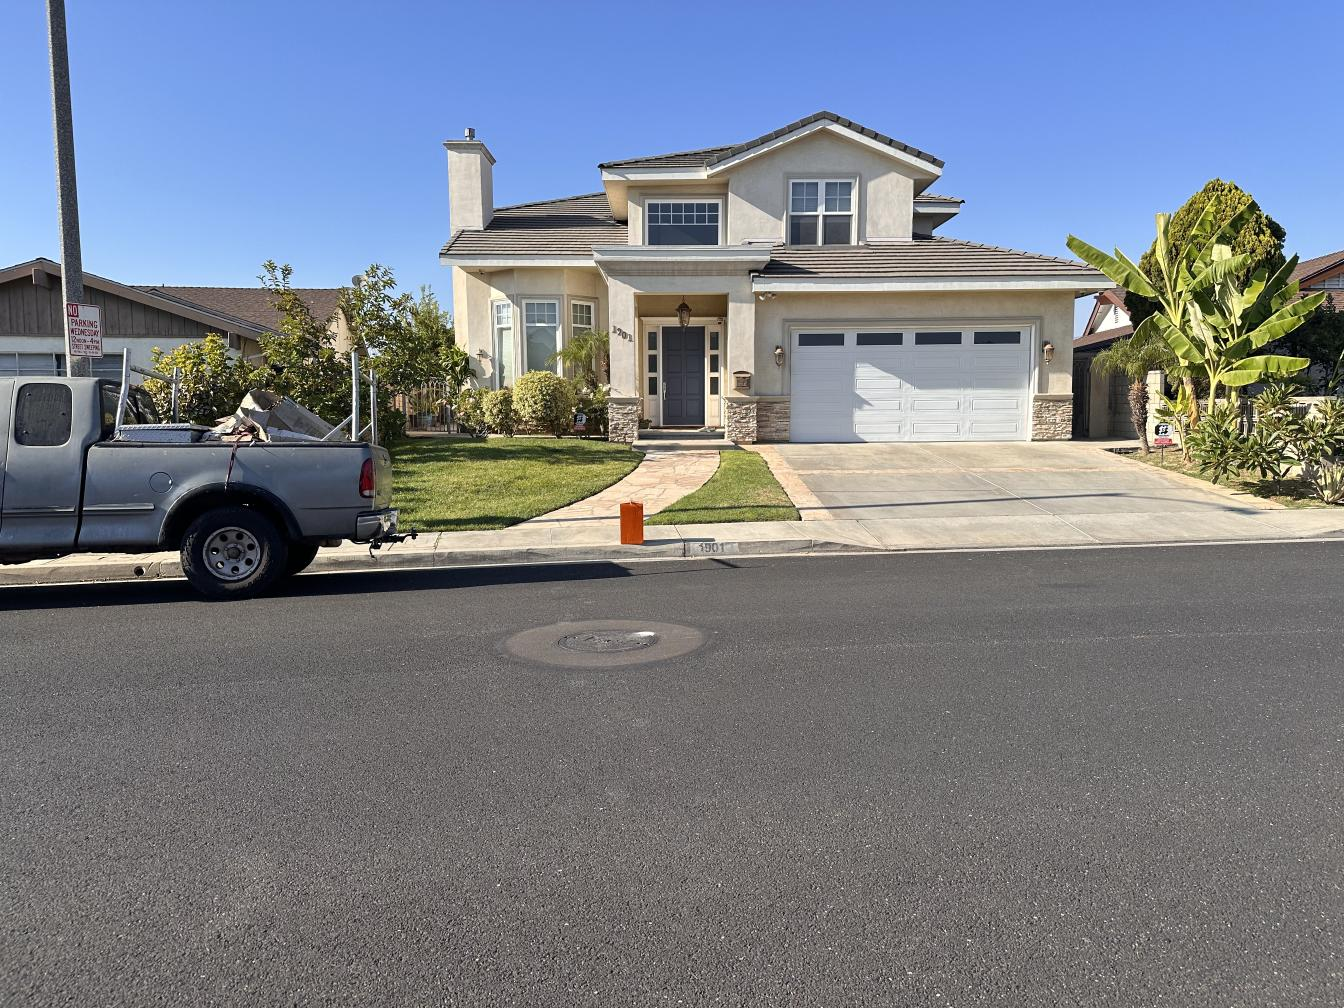curbs-laRr: (393, 544, 623, 568), (632, 538, 828, 561)
orange box: (621, 502, 644, 546)
